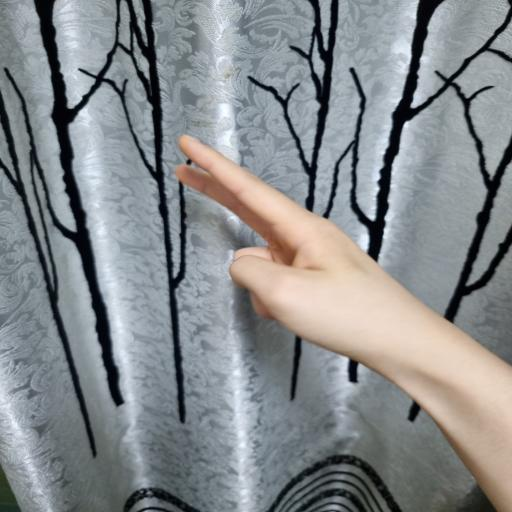Scissors: (174, 134, 444, 368)
